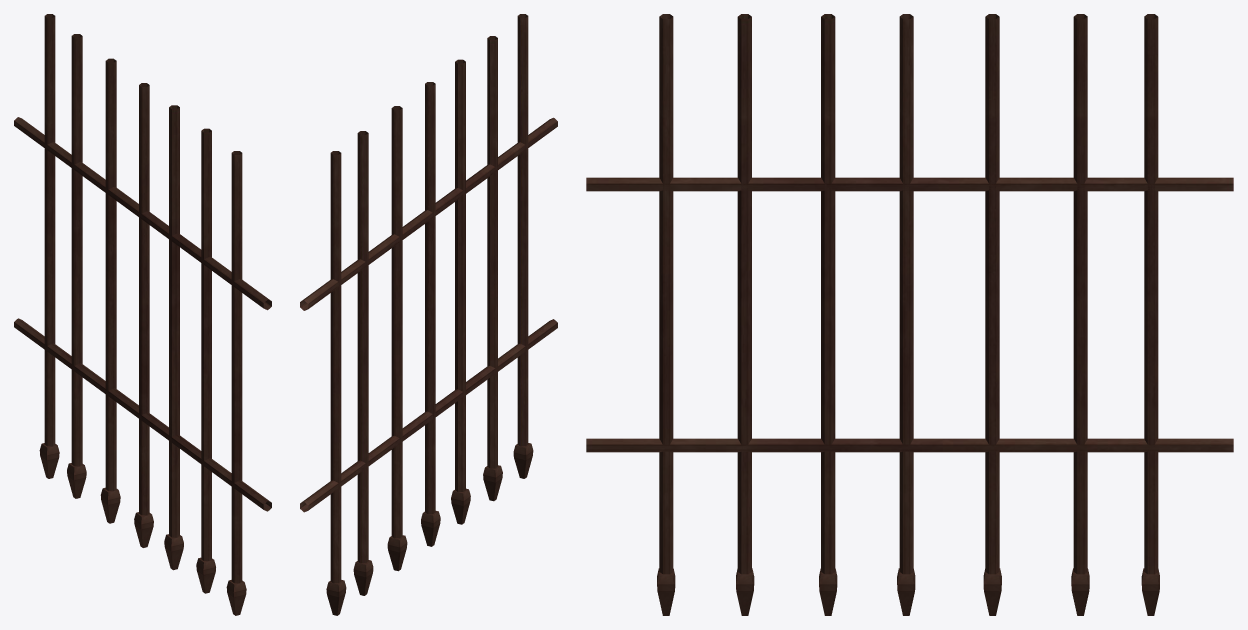
The model's file is metal_gate.obj.
The picture shows the model from 3 angles, left to right: view 1: azimuth 30°, elevation 25°; view 2: azimuth 150°, elevation 25°; view 3: azimuth 270°, elevation 25°; orthographic projection. The views are drawn at different scales.
Size of the model in its own units: 0.1064 by 3.67 by 3.6.
Materials: 1 (1 with a texture image).
